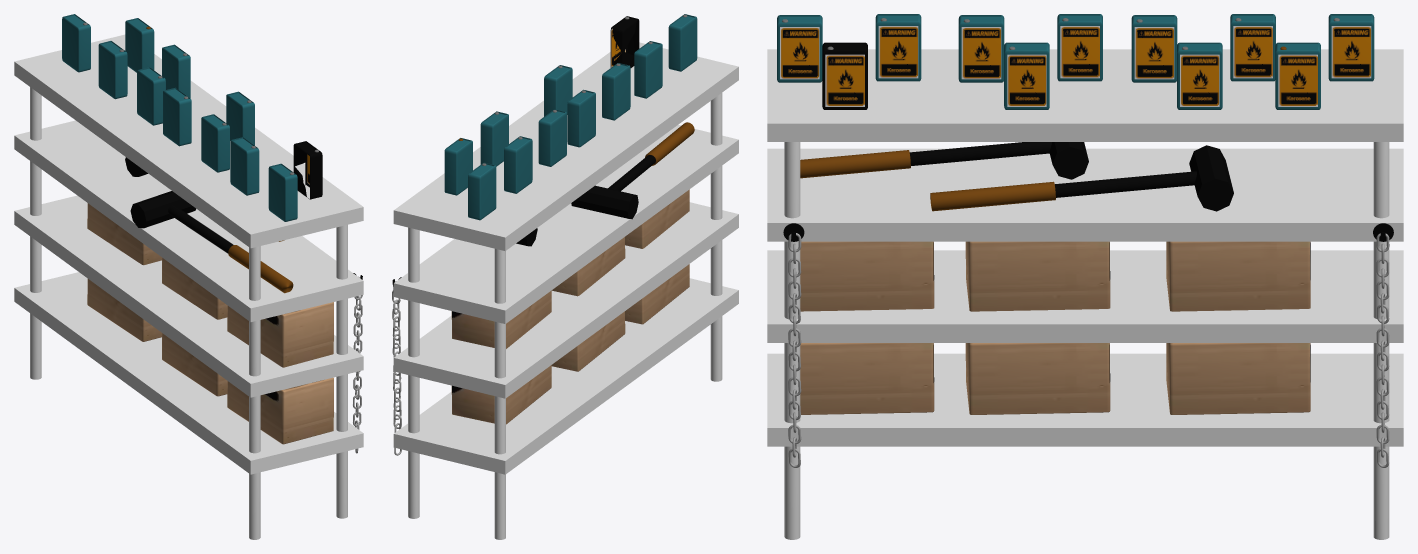
Rendered from storeroom rack 3 .fbx.
3 views of the same model, side by side, from view 1: azimuth 30°, elevation 25°; view 2: azimuth 150°, elevation 25°; view 3: azimuth 270°, elevation 25° (orthographic). The views are drawn at different scales.
Visible parts, largest first — view 1: Plane.003, Plane.002, Plane, Plane.001, Cube.018, Cube.013, Cylinder.001, Cylinder, Cylinder.002, Cube.016, Cube.015, Cube.017 (+15 smaller); view 2: Plane.003, Plane.002, Plane, Plane.001, Cylinder.002, Cylinder.003, Cylinder.001, Cube.016, Cube.015, Cube.017, Cube.018, Cube.014 (+15 smaller); view 3: Plane.002, Plane.003, Plane, Plane.001, Cube.016, Cube.017, Cube.014, Cube.015, Cube.018, Cube.013, Cylinder, Cylinder.003 (+17 smaller).
Boxes of the visible parts, x1=… form: Plane.003: x1=14, y1=34, x2=363, y2=248; Plane.002: x1=14, y1=120, x2=363, y2=322; Plane: x1=14, y1=272, x2=363, y2=474; Plane.001: x1=14, y1=195, x2=363, y2=397; Cube.018: x1=227, y1=377, x2=333, y2=444; Cube.013: x1=227, y1=302, x2=333, y2=367; Cylinder.001: x1=249, y1=246, x2=260, y2=539; Cylinder: x1=336, y1=224, x2=347, y2=518; Cylinder.002: x1=30, y1=87, x2=41, y2=379; Cube.016: x1=87, y1=279, x2=161, y2=341; Cube.015: x1=87, y1=203, x2=161, y2=265; Cube.017: x1=162, y1=333, x2=227, y2=396; Plane.003: x1=393, y1=42, x2=738, y2=251; Plane.002: x1=393, y1=125, x2=738, y2=323; Plane: x1=393, y1=278, x2=738, y2=474; Plane.001: x1=393, y1=202, x2=738, y2=398; Cylinder.002: x1=494, y1=248, x2=505, y2=539; Cylinder.003: x1=408, y1=227, x2=419, y2=518; Cylinder.001: x1=710, y1=93, x2=722, y2=381; Cube.016: x1=451, y1=365, x2=551, y2=424; Cube.015: x1=451, y1=290, x2=551, y2=348; Cube.017: x1=551, y1=311, x2=625, y2=371; Cube.018: x1=625, y1=264, x2=689, y2=324; Cube.014: x1=552, y1=237, x2=625, y2=296; Plane.002: x1=767, y1=148, x2=1403, y2=241; Plane.003: x1=767, y1=49, x2=1403, y2=141; Plane: x1=767, y1=353, x2=1403, y2=446; Plane.001: x1=767, y1=250, x2=1403, y2=342; Cube.016: x1=1166, y1=343, x2=1310, y2=414; Cube.017: x1=965, y1=343, x2=1110, y2=414; Cube.014: x1=965, y1=241, x2=1110, y2=311; Cube.015: x1=1166, y1=241, x2=1310, y2=311; Cube.018: x1=800, y1=343, x2=934, y2=414; Cube.013: x1=800, y1=241, x2=934, y2=311; Cylinder: x1=784, y1=142, x2=800, y2=539; Cylinder.003: x1=1373, y1=142, x2=1389, y2=539.
Size of the model in its own units: 81.99 by 222 by 266.
